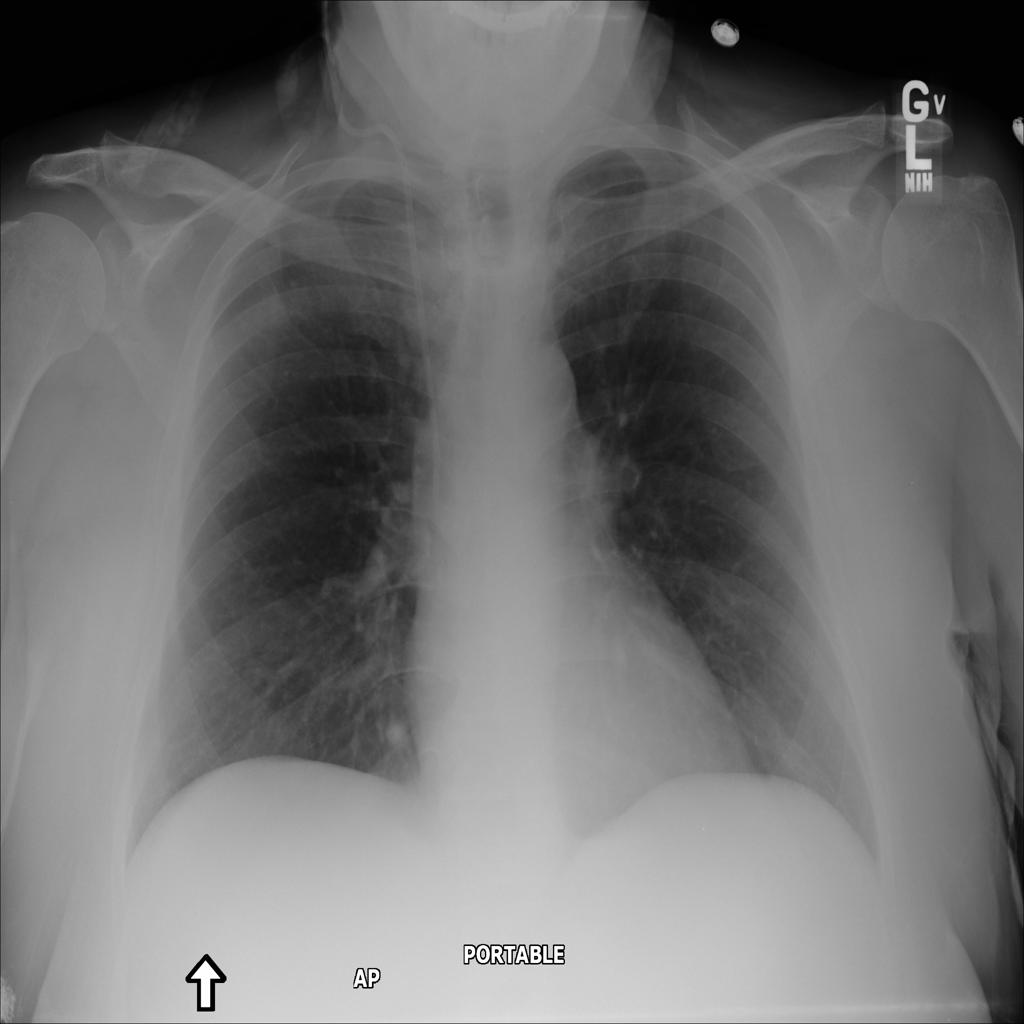nodule: (368, 706, 419, 757)
